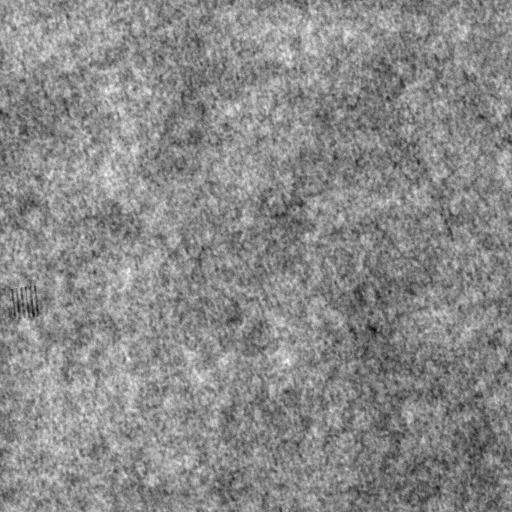DefectTypeB: (9, 283, 42, 320)
